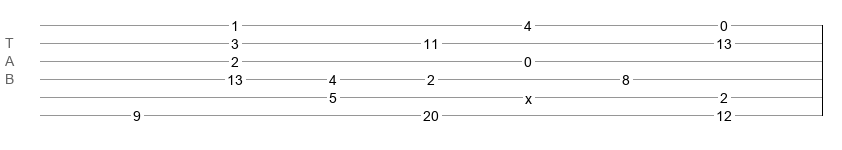0: (524, 54, 532, 64), (720, 18, 728, 28)
1: (231, 18, 239, 28)
11: (423, 36, 439, 46)
12: (716, 108, 732, 118)
13: (227, 72, 243, 82), (716, 36, 732, 46)
2: (231, 54, 239, 64), (427, 72, 435, 82), (720, 90, 728, 100)
20: (423, 108, 439, 118)
3: (231, 36, 239, 46)
4: (329, 72, 337, 82), (524, 18, 532, 28)
5: (329, 90, 337, 100)
8: (622, 72, 630, 82)
9: (133, 108, 141, 118)
x: (525, 91, 532, 99)
